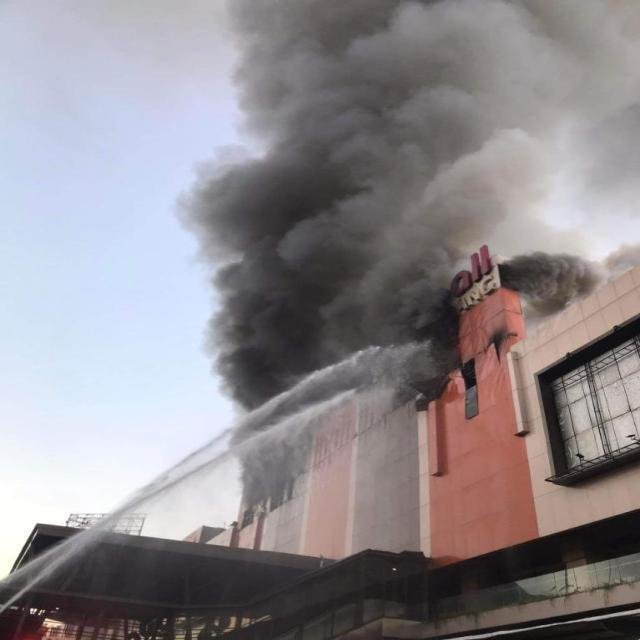Smoke: (217, 3, 640, 208), (204, 186, 426, 356), (517, 246, 601, 292)
